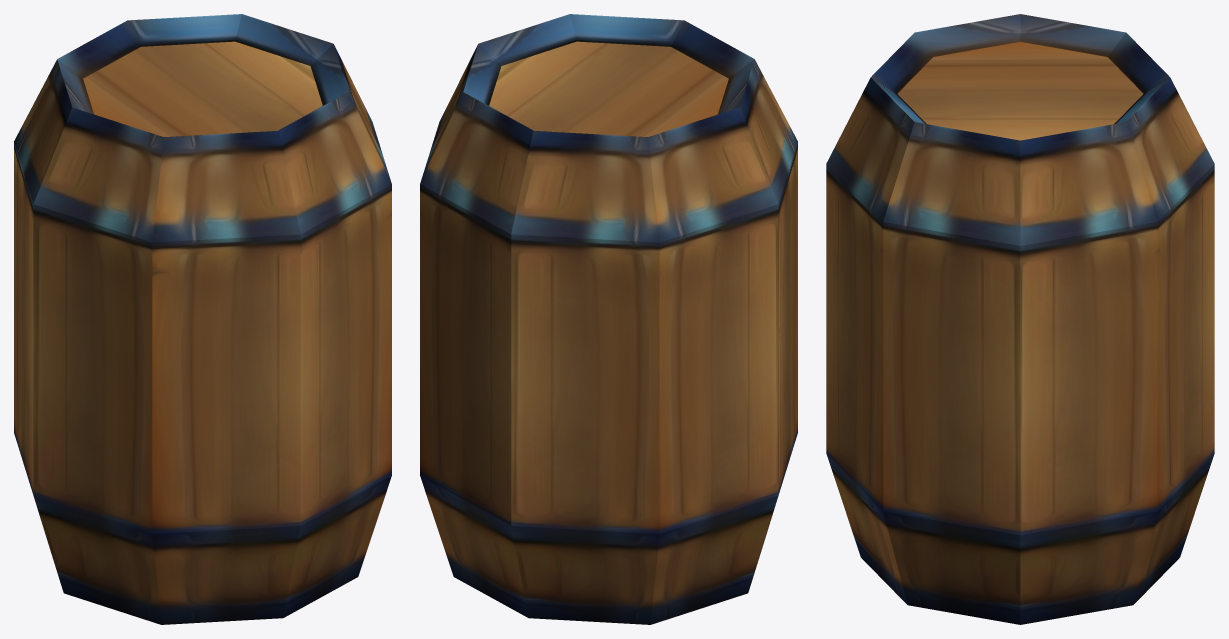
File: barrel.glb
3 views of the same model, side by side, from view 1: azimuth 30°, elevation 25°; view 2: azimuth 150°, elevation 25°; view 3: azimuth 270°, elevation 25° (orthographic).
Visible parts, largest first — view 1: Barrel_mesh; view 2: Barrel_mesh; view 3: Barrel_mesh.
Part boxes in pixels (<box>): Barrel_mesh: <box>14,14,391,624</box>; Barrel_mesh: <box>420,14,797,624</box>; Barrel_mesh: <box>826,14,1214,624</box>.
Bounding box in the file's own units: 2.43 × 3.32 × 2.43.
Materials: 1 (1 with a texture image).
